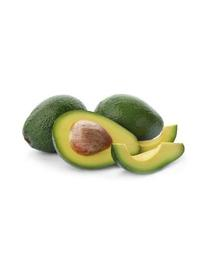avocado: (50, 109, 142, 171), (20, 96, 91, 156), (95, 95, 164, 142)
